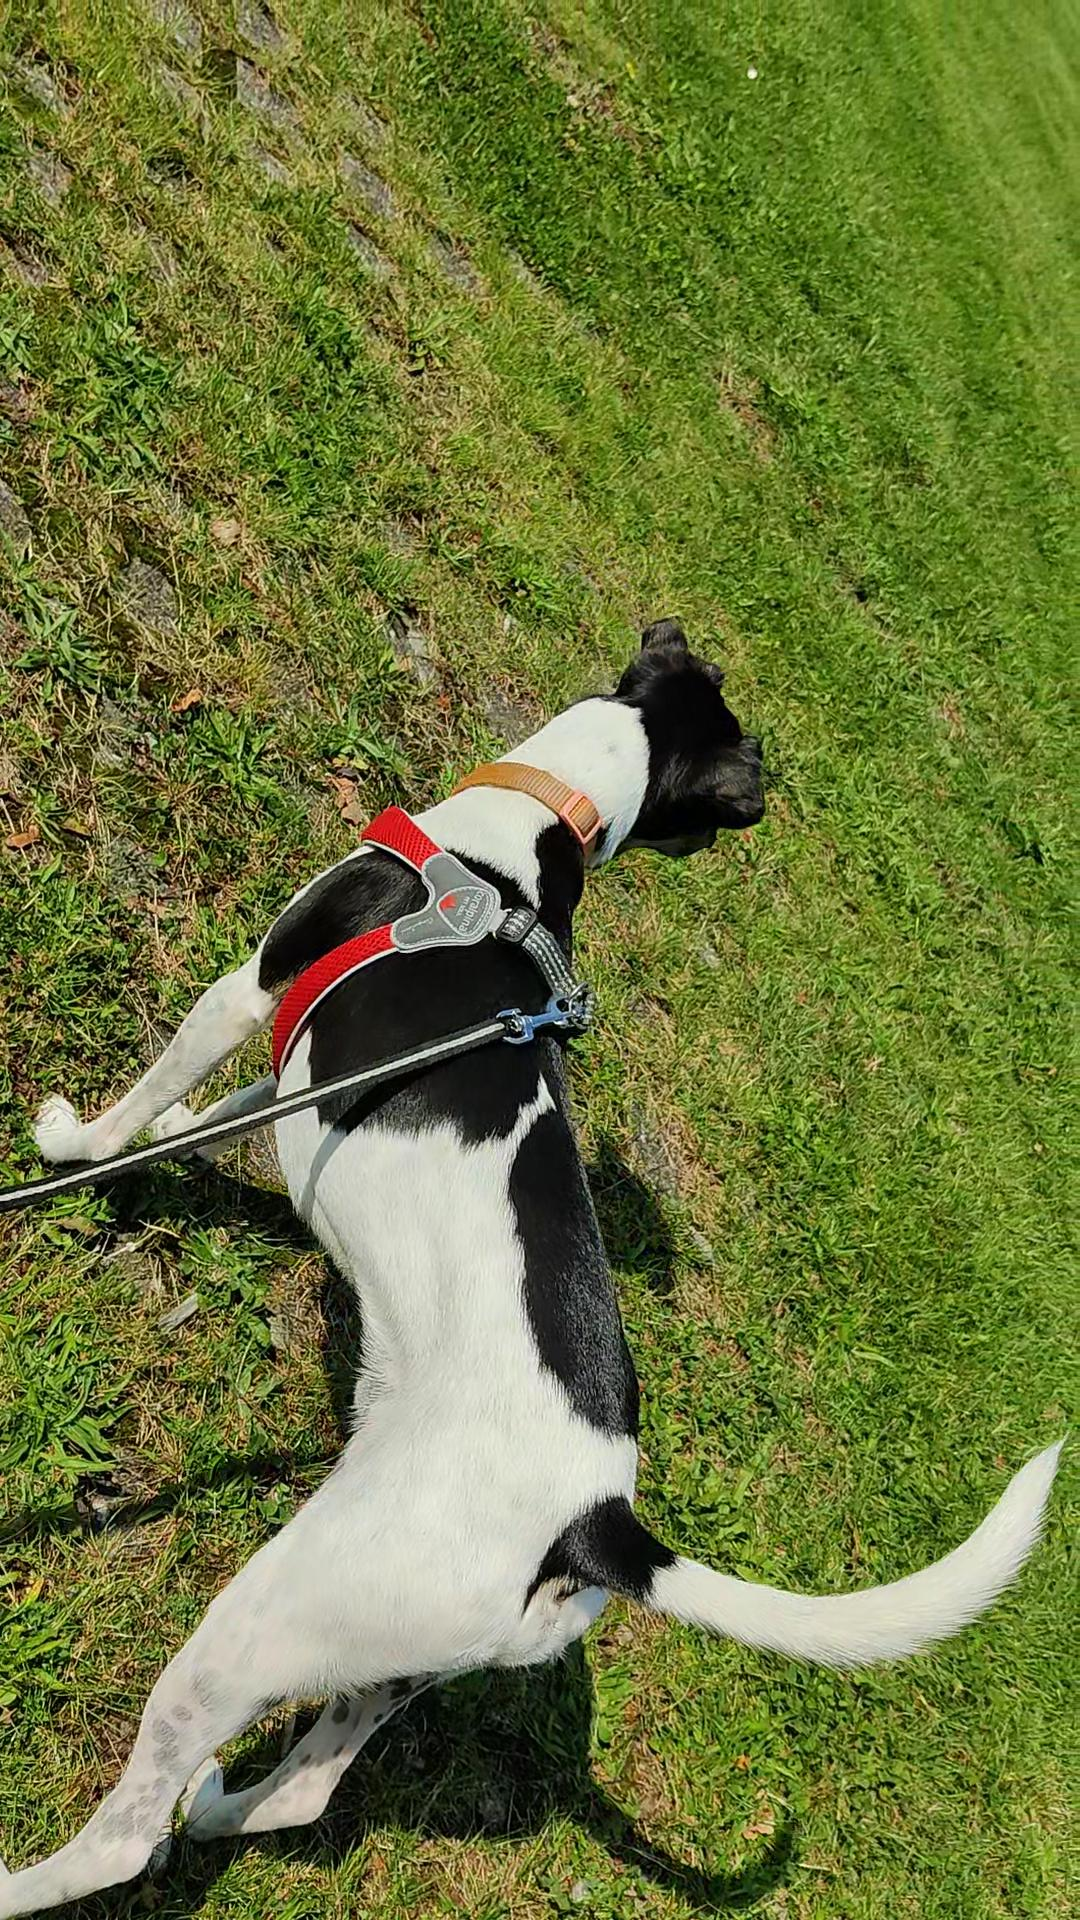Dog: (3, 592, 1065, 1916)
